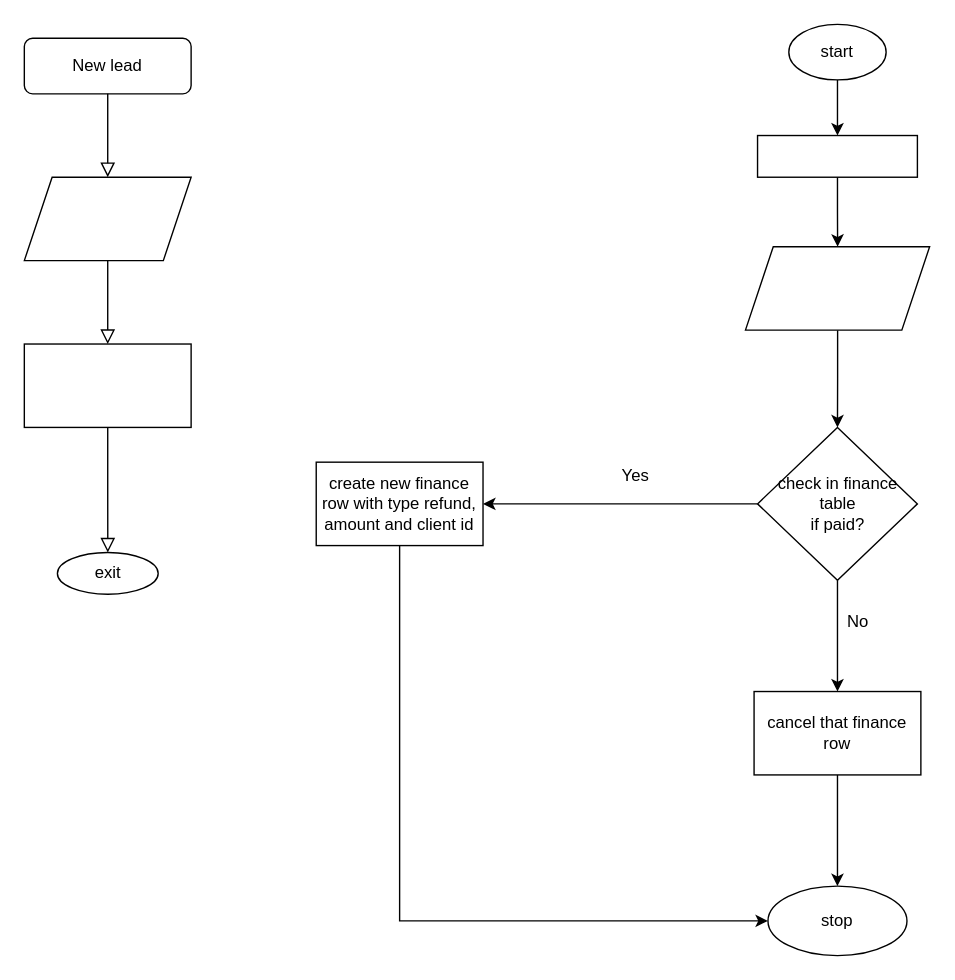
Image size: 955x980. Some labels were removed from this diagram. The shapes that lost their labels are listed below. From the top down, each one's centre as x and y in pixels, then its label:
At [836,155]: "select a lead to be refunded".
At [107,218]: "amount".
At [837,287]: "refund lead data".
At [107,385]: "save to finance table".
